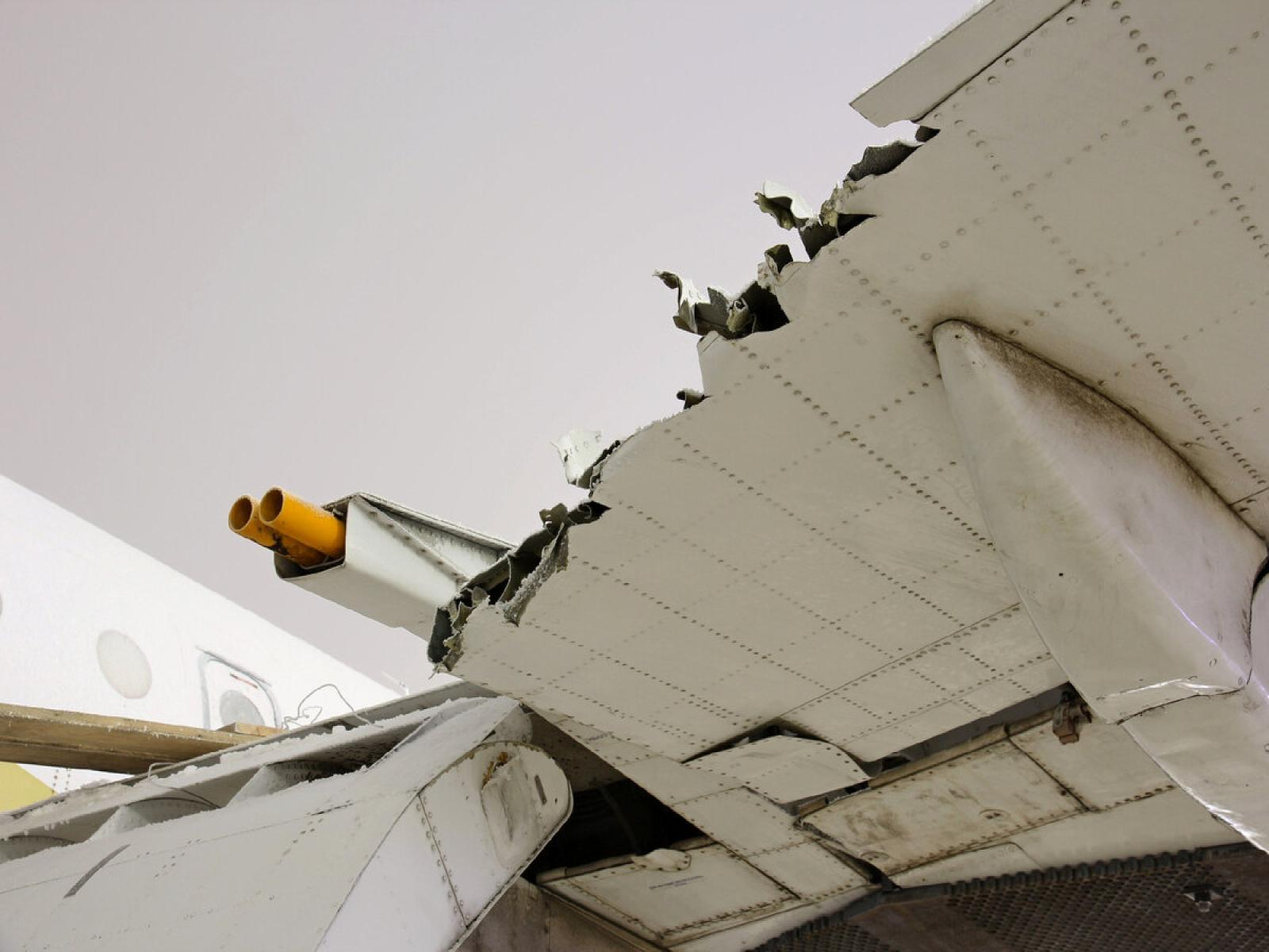Wing_damage: (757, 142, 919, 258), (467, 502, 607, 625), (679, 245, 792, 339), (555, 430, 623, 490), (428, 597, 472, 669), (846, 140, 919, 181)
